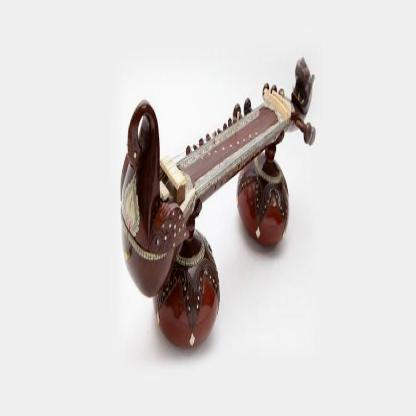Veena: (114, 44, 318, 263)
